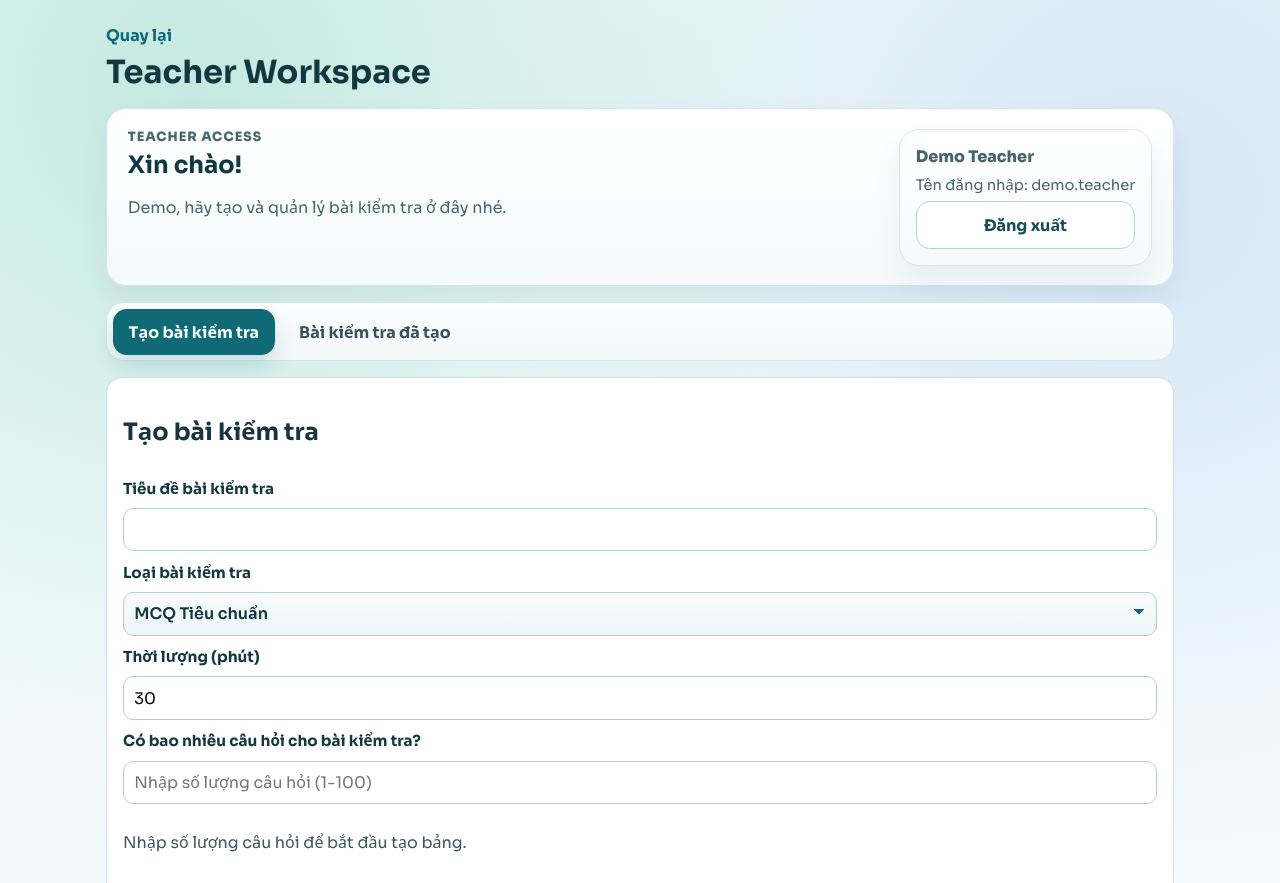
Scenario: TeacherPageComponent › opens a popup detail view for a selected test
Click the tab with id "created-tab": (375, 332) top-left (283, 309), bottom-right (467, 355)
(page scrolled)
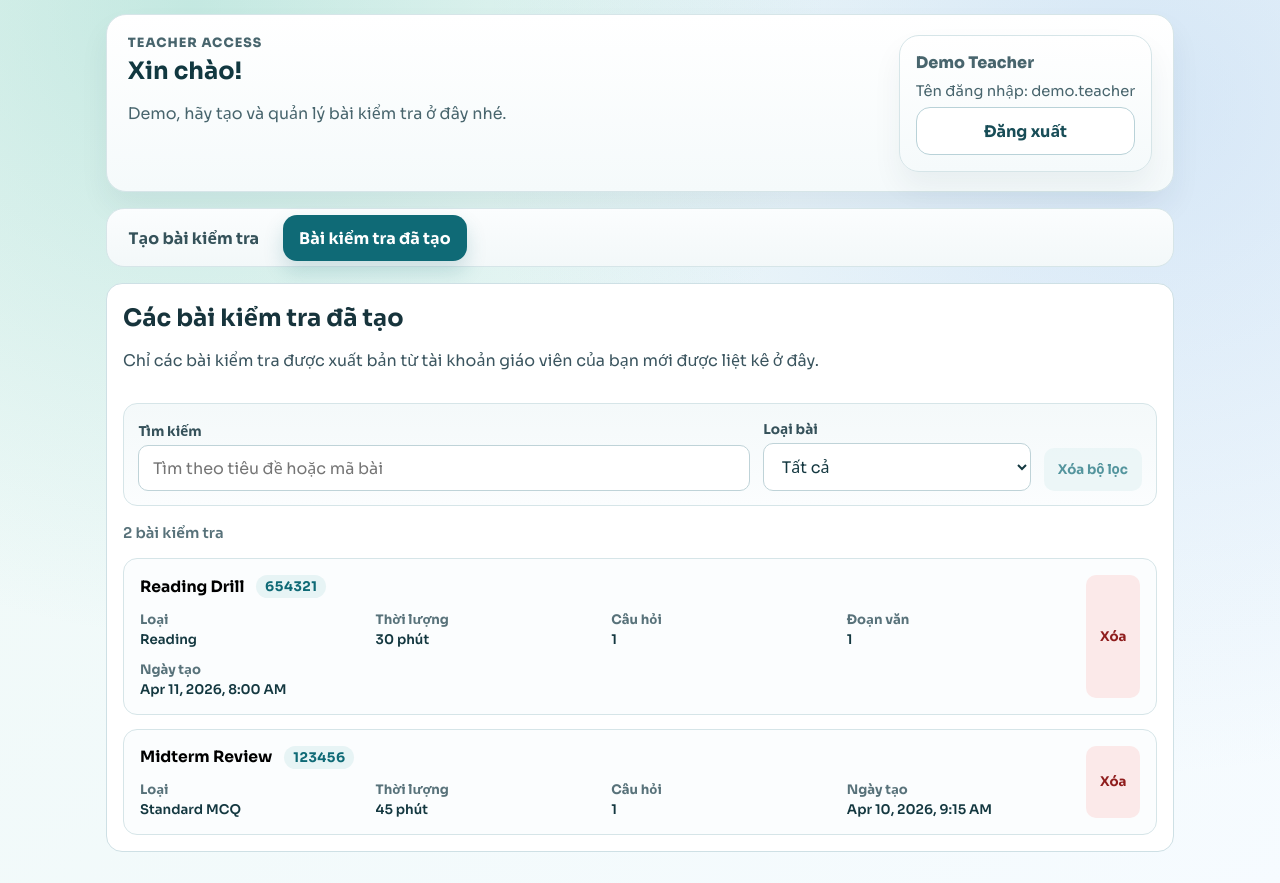
Click the button with aria-label "Open details for test 123456": (206, 757) top-left (140, 746), bottom-right (1070, 818)
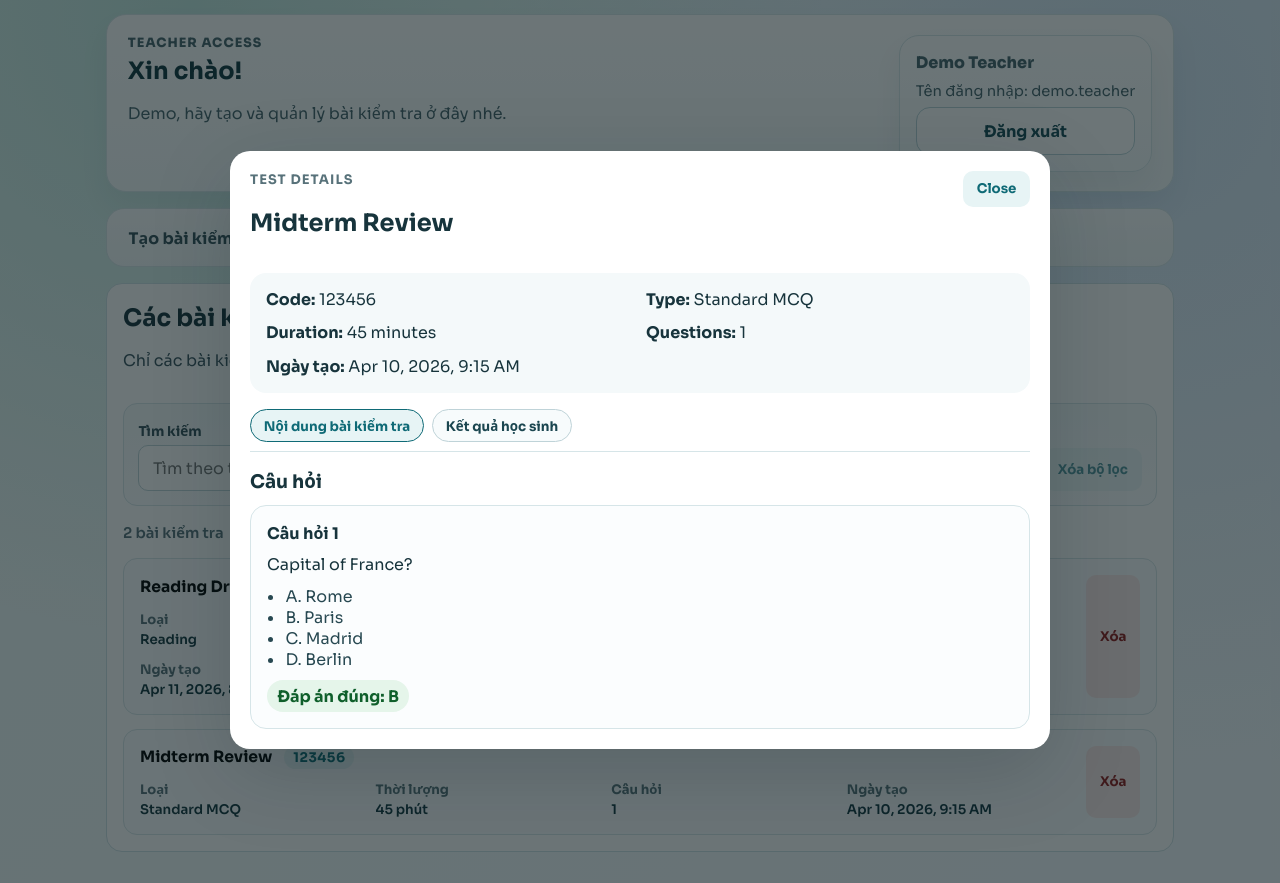
Expected: the dialog is shown, top-left (230, 151), bottom-right (1050, 749)
Expected: the text "Test Details" is shown, top-left (250, 171), bottom-right (354, 188)
Expected: the text "Capital of France?" is shown, top-left (267, 554), bottom-right (412, 575)
